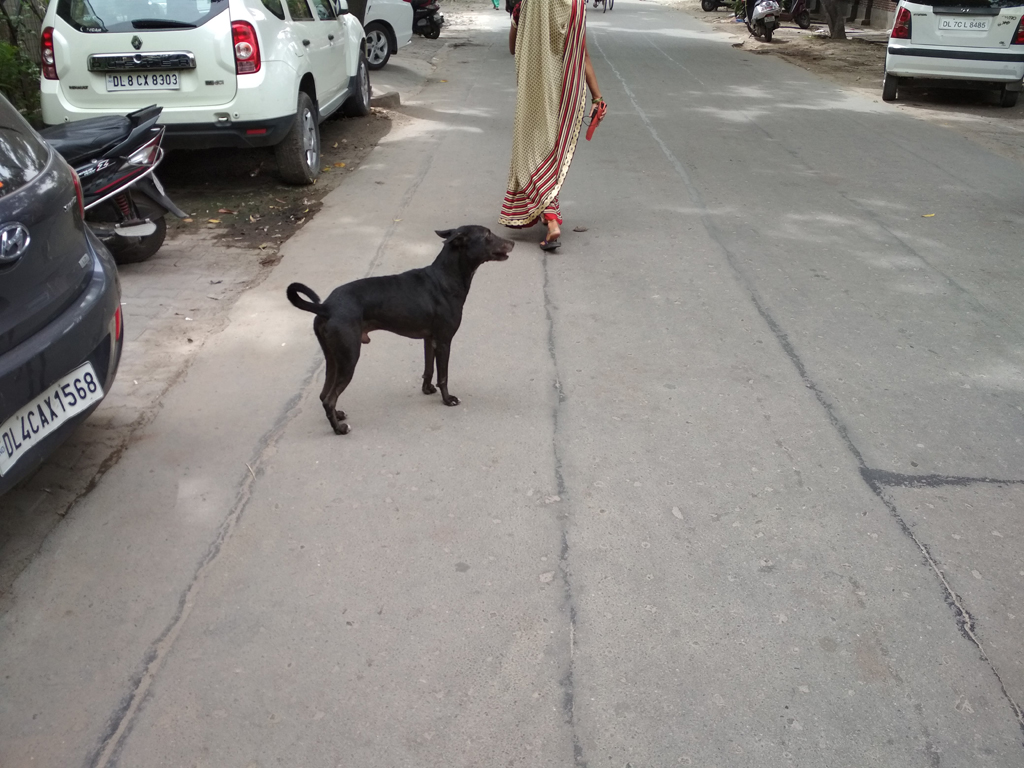dog: (286, 226, 512, 438)
